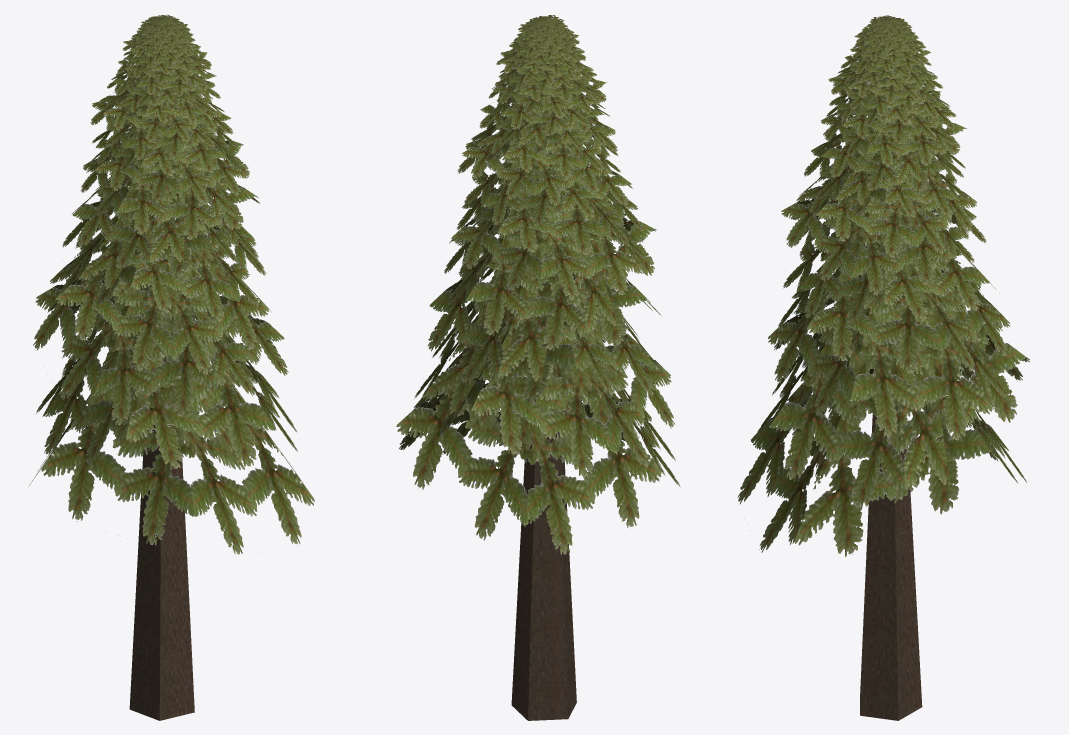
The model's file is tree2.glb.
3 views of the same model, side by side, from view 1: azimuth 30°, elevation 25°; view 2: azimuth 150°, elevation 25°; view 3: azimuth 270°, elevation 25° (orthographic).
Parts seen in each view (by area): view 1: Tree3; view 2: Tree3; view 3: Tree3.
Part boxes in pixels (x1=…): Tree3: x1=29, y1=14, x2=314, y2=720; Tree3: x1=396, y1=15, x2=680, y2=720; Tree3: x1=737, y1=15, x2=1029, y2=720.
Bounding box in the file's own units: 4.78 × 11 × 4.83.
Materials: 2 (2 with a texture image).
